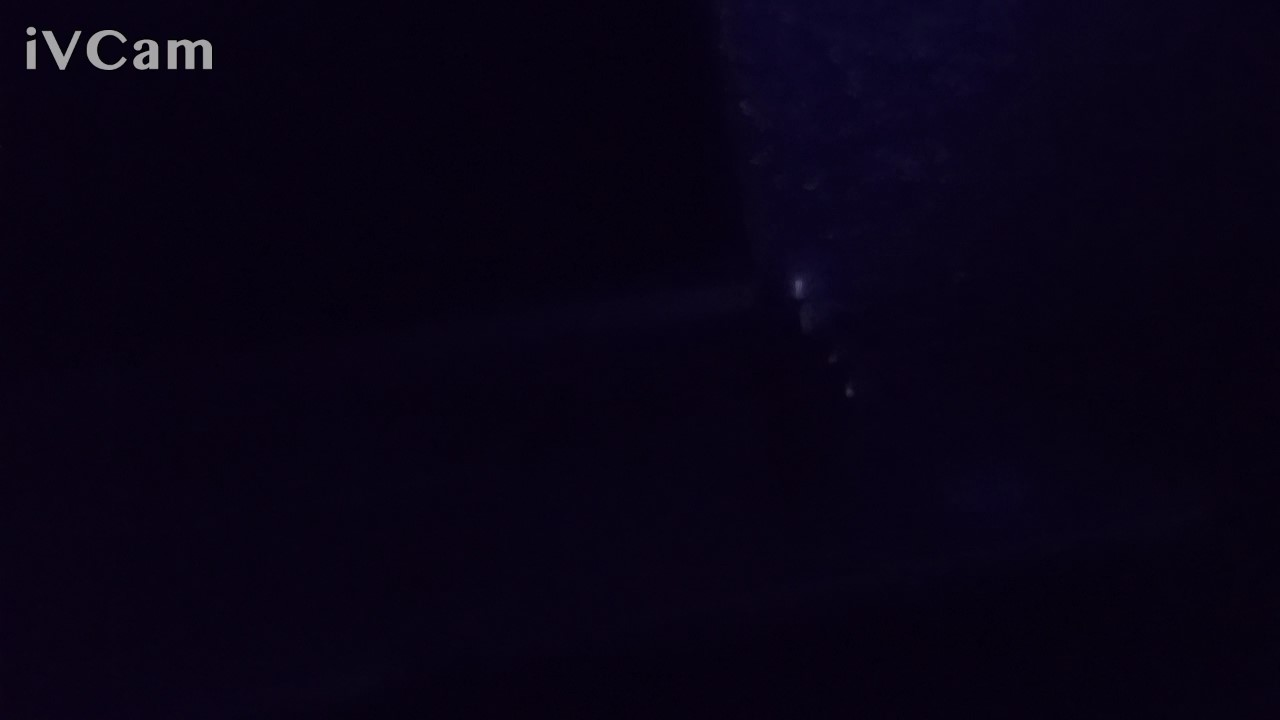mandalorian: (728, 251, 914, 571)
